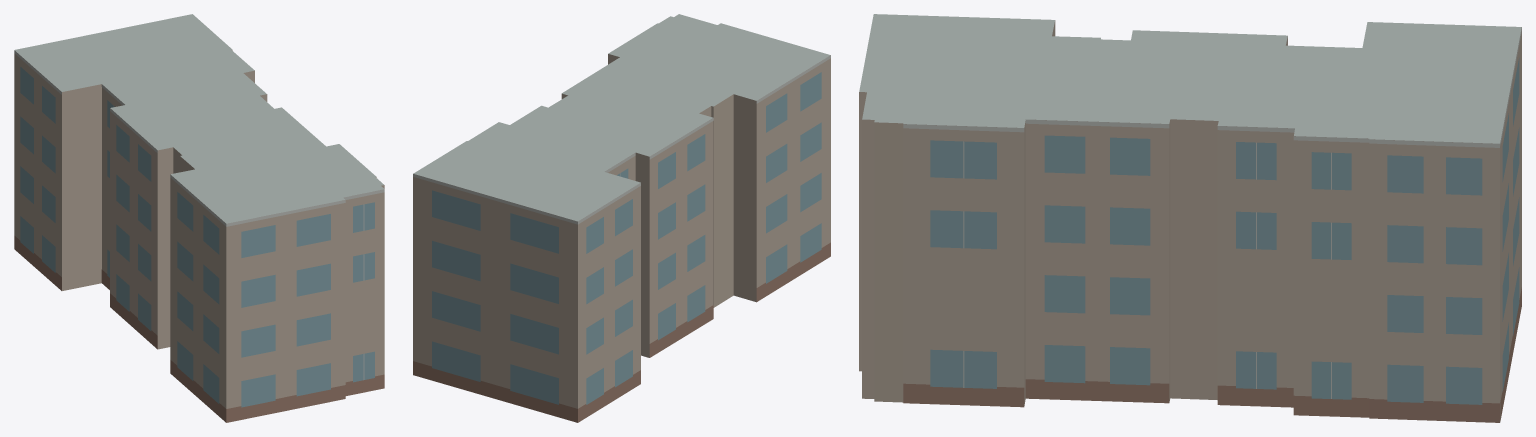
The model's file is survey-upis-32837046.glb.
3 views of the same model, side by side, from view 1: azimuth 30°, elevation 25°; view 2: azimuth 150°, elevation 25°; view 3: azimuth 270°, elevation 25° (orthographic). The views are drawn at different scales.
Parts seen in each view (by area): view 1: survey-upis-32837046.tmp; view 2: survey-upis-32837046.tmp; view 3: survey-upis-32837046.tmp.
Part boxes in pixels (bbox=[...]): survey-upis-32837046.tmp: bbox=[14, 14, 384, 422]; survey-upis-32837046.tmp: bbox=[413, 14, 830, 422]; survey-upis-32837046.tmp: bbox=[859, 14, 1521, 422].
Size of the model in its own units: 15.85 by 15.9 by 34.22.
